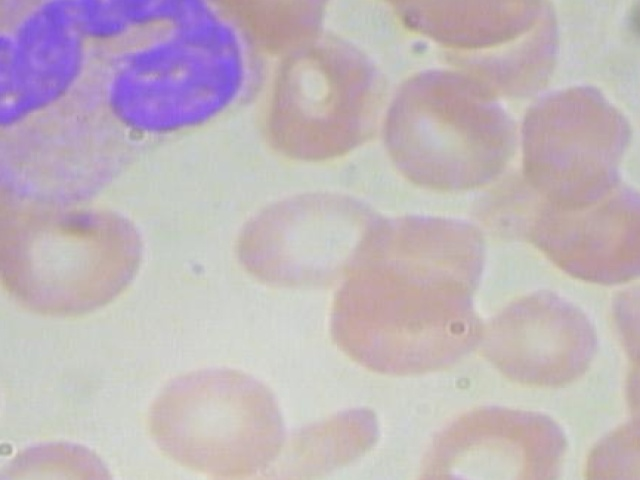RBC: (0, 195, 160, 322), (231, 188, 404, 299), (322, 260, 487, 376), (378, 67, 524, 198), (143, 355, 287, 480), (253, 28, 383, 161), (513, 75, 640, 208), (476, 286, 604, 396), (411, 402, 580, 480), (0, 432, 131, 480), (572, 410, 640, 480), (603, 272, 640, 379), (0, 358, 14, 467)
WBC: (0, 0, 264, 203)
